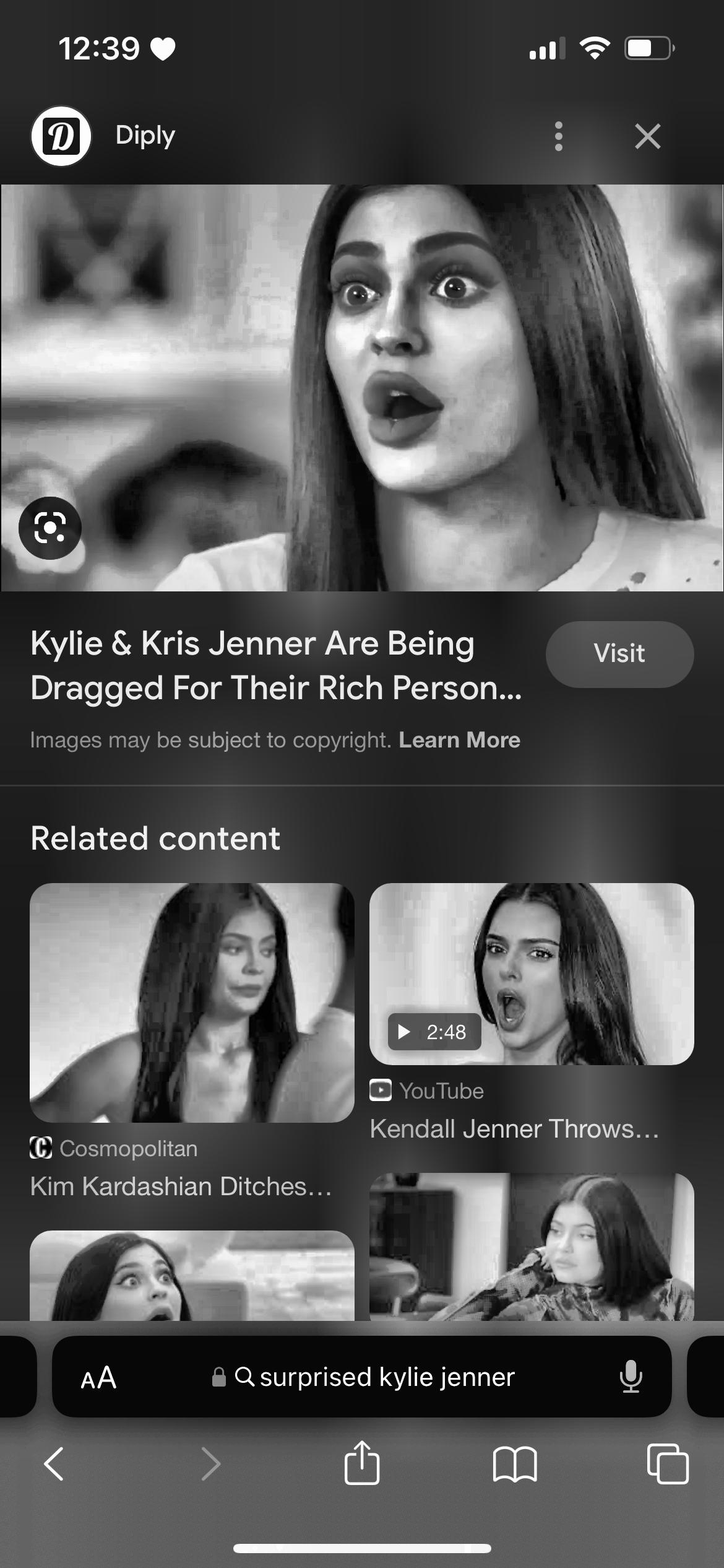surprised: (322, 207, 545, 499)
